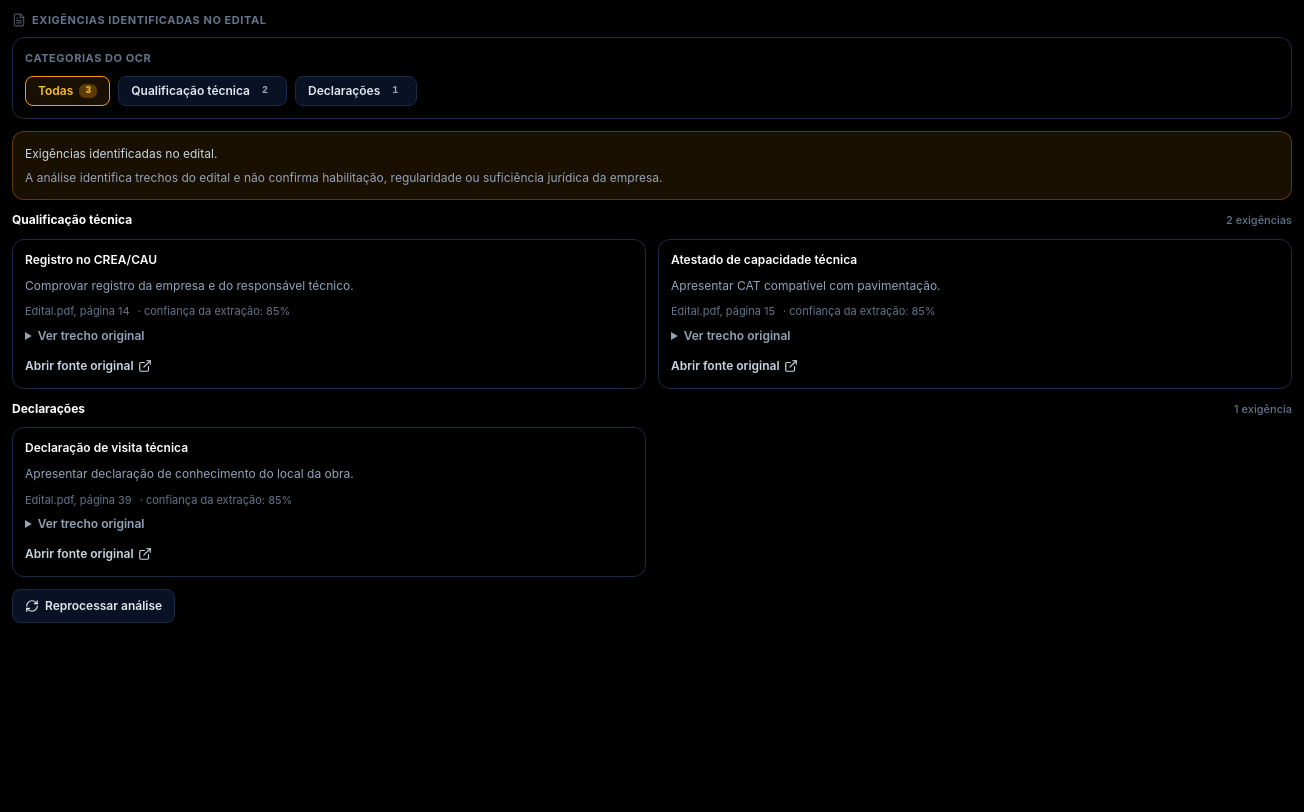
Test: ExigenciasSection › permite filtrar as exigências clicando nas categorias do OCR no topo
This screenshot has width=1304, height=812.
Expected: the button "Todas 3" is shown, x1=25 y1=76 x2=110 y2=106
Expected: the button "Declarações 1" is shown, x1=295 y1=76 x2=417 y2=106
Click the button "Qualificação técnica 2" at [203, 91], box x1=118 y1=76 x2=287 y2=106
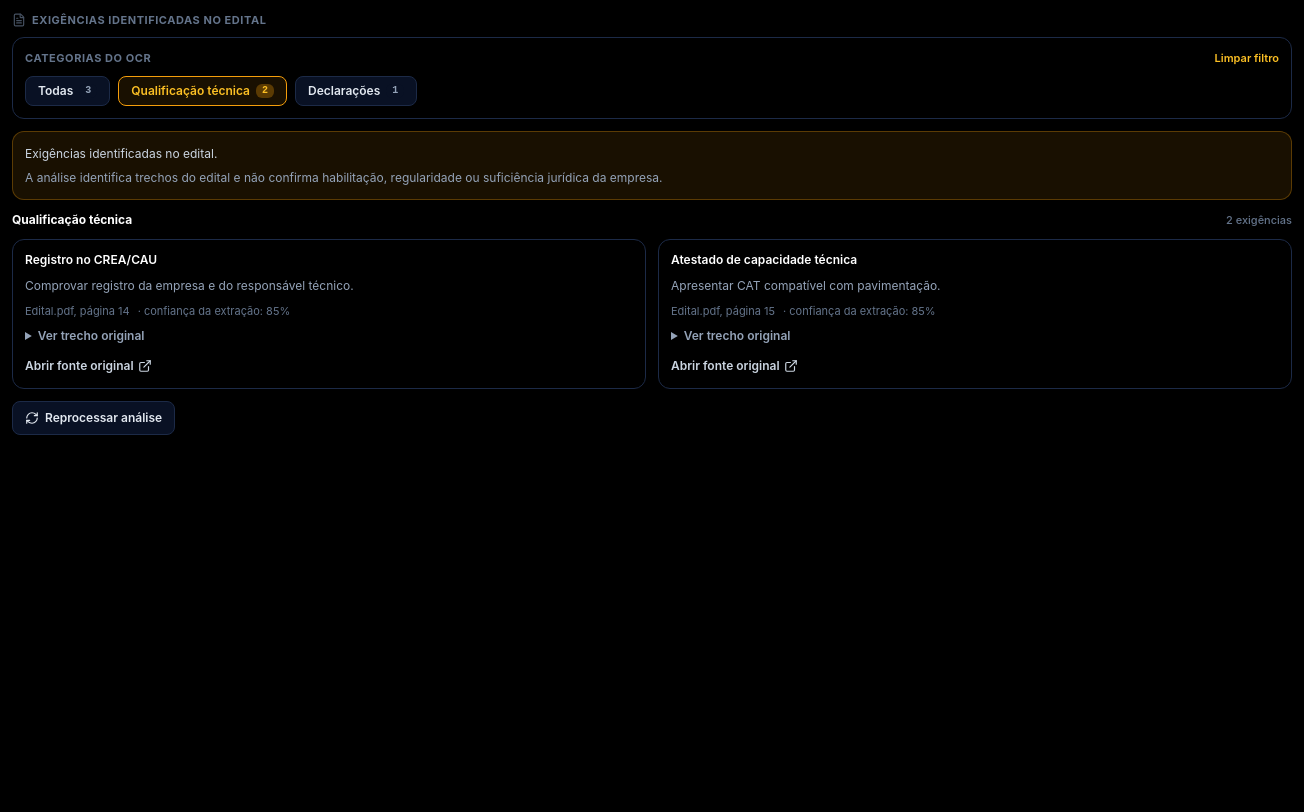
Expected: the text "Registro no CREA/CAU" is shown, x1=25 y1=252 x2=157 y2=266
Now the text "Declaração de visita técnica" is gone
Click the button "Declarações 1" at [356, 91], box x1=295 y1=76 x2=417 y2=106
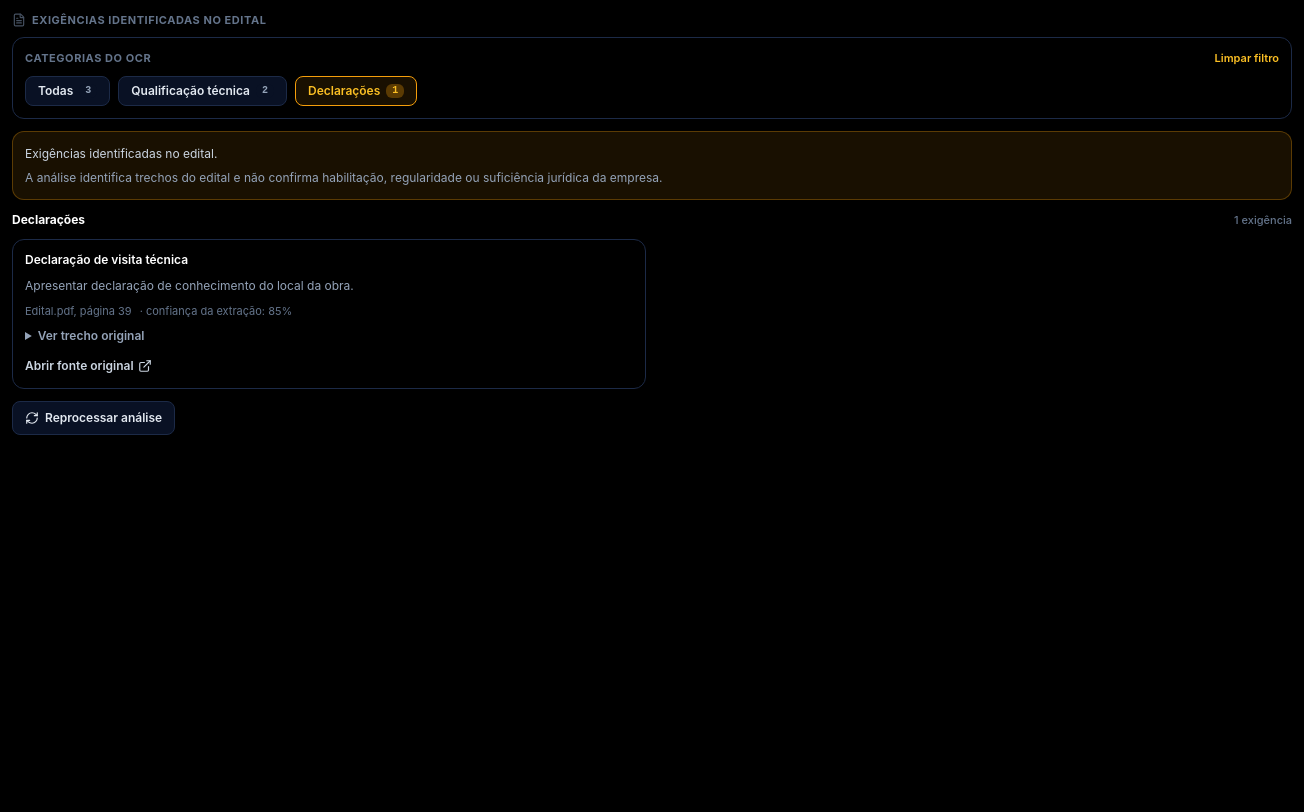
Now the text "Declaração de visita técnica" is shown, box x1=25 y1=252 x2=188 y2=266
Now the text "Registro no CREA/CAU" is gone
// Clicar novamente na categoria ativa restaura todas as categorias
Click the button "Declarações 1" at [356, 91], box x1=295 y1=76 x2=417 y2=106
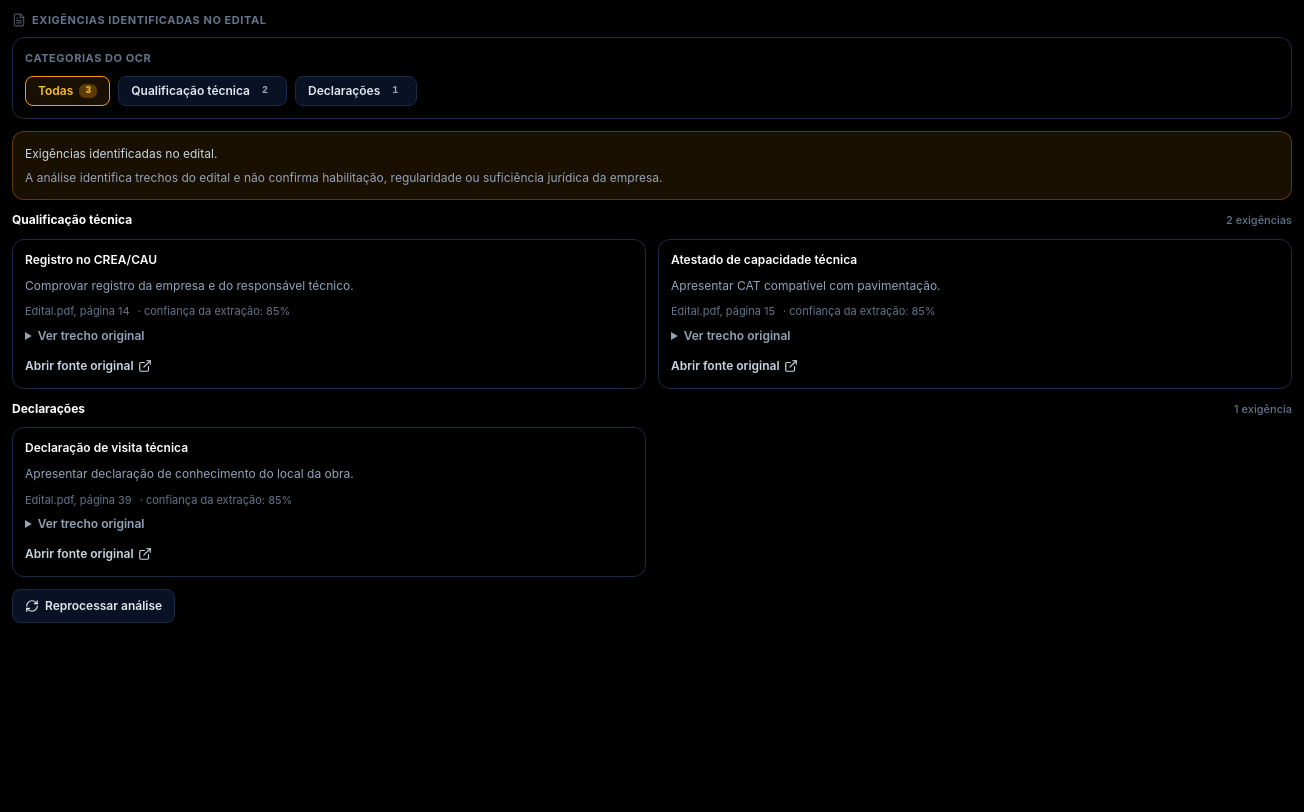
Now the button "Todas 3" is pressed, box x1=25 y1=76 x2=110 y2=106
